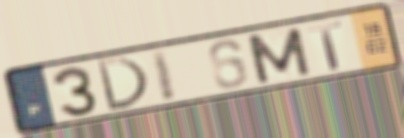3: (50, 65, 100, 118)
6: (206, 38, 250, 90)
D: (93, 55, 152, 113)
I: (148, 46, 179, 104)
M: (243, 25, 315, 86)
T: (305, 19, 345, 72)
